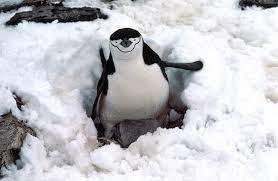chinstrap: (79, 22, 191, 140)
